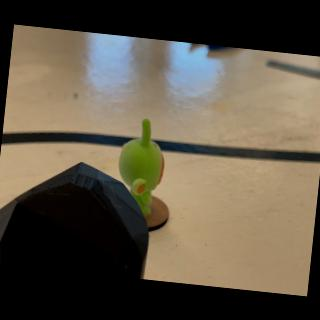teletubby: (118, 119, 163, 215)
